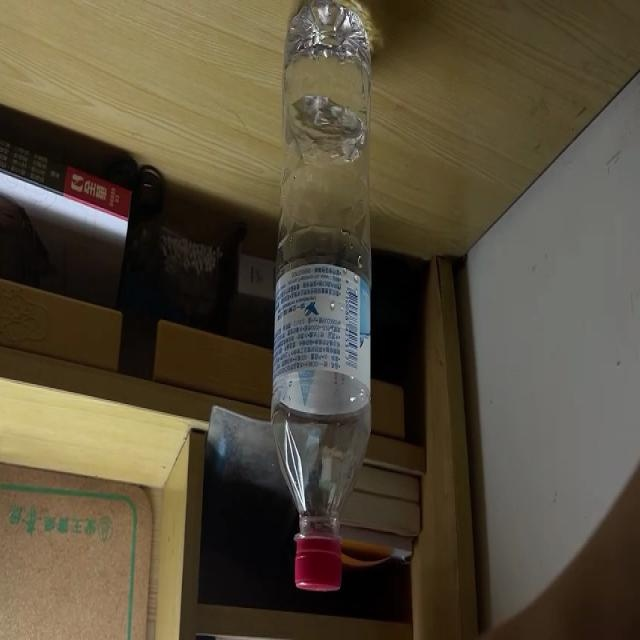Water: (273, 0, 372, 594)
